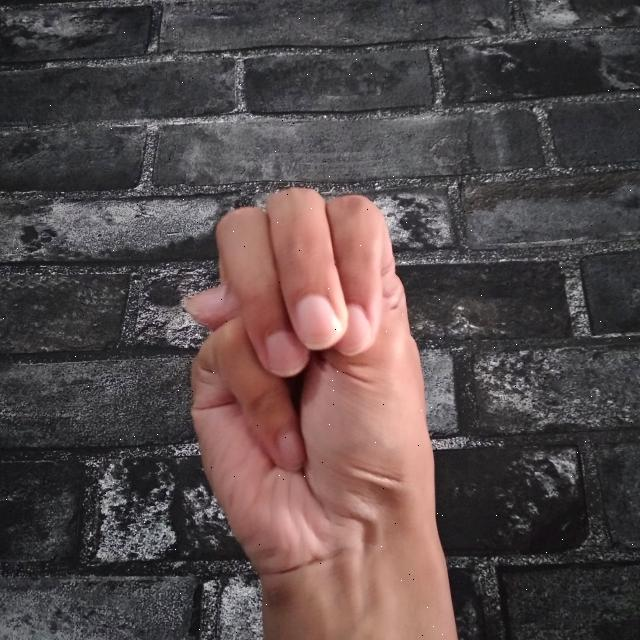M: (181, 181, 466, 640)
